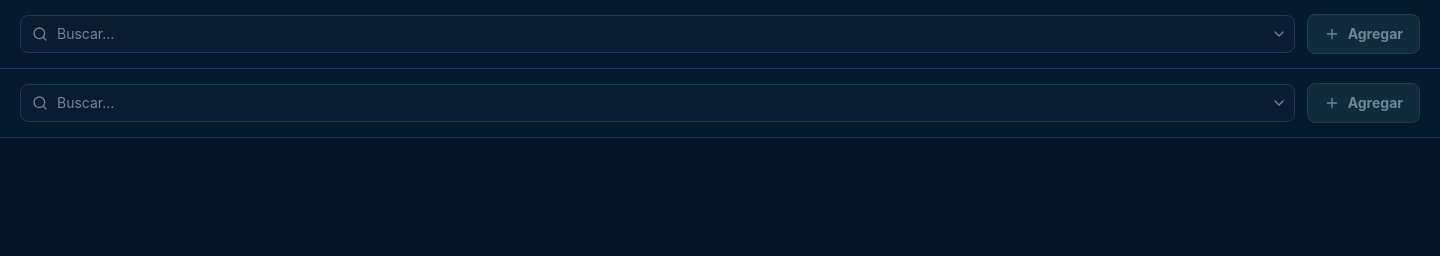
Test: ProductPicker component › shares recent products with balance pickers that use origin-specific option ids
Type "Manto entero" into the dropdown named "Buscar producto".
click(657, 34); type("Manto entero")  # box 20,15 -> 1295,53
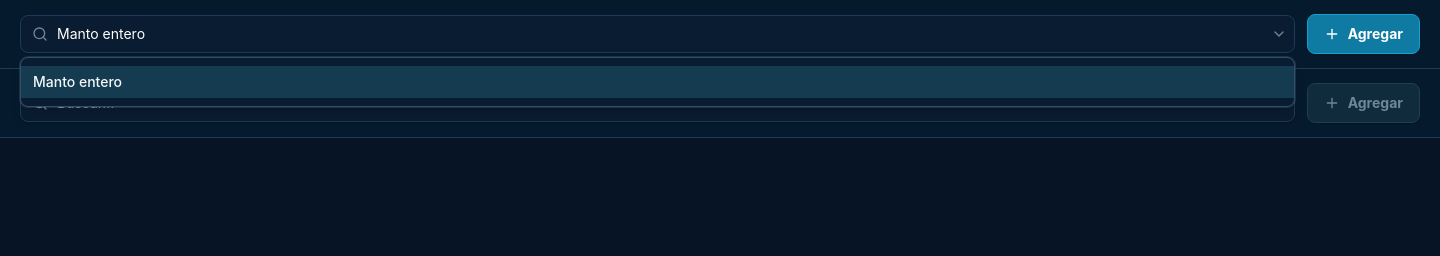
Click the option "Manto entero".
click(78, 82)  # box 21,66 -> 1294,98
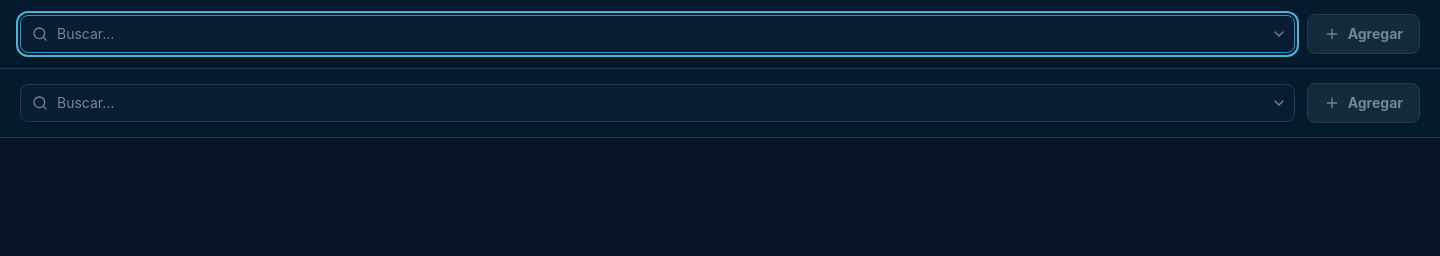
Focus the dropdown named "Buscar saldo" at {"x": 657, "y": 103}, box 20,84 -> 1295,122
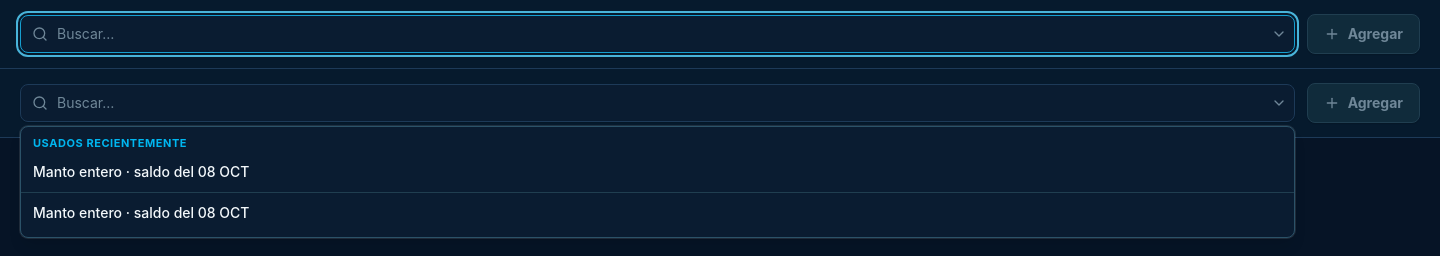
Result: the text "Usados recientemente" is shown at 33,136 -> 187,150
Result: the option "Manto entero · saldo del 08 OCT" below "Usados recientemente" is shown at 33,162 -> 250,180
